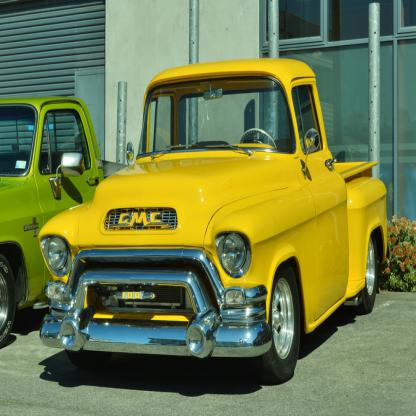Car: (0, 96, 105, 349)
Truck: (38, 58, 391, 383), (0, 99, 106, 349)
